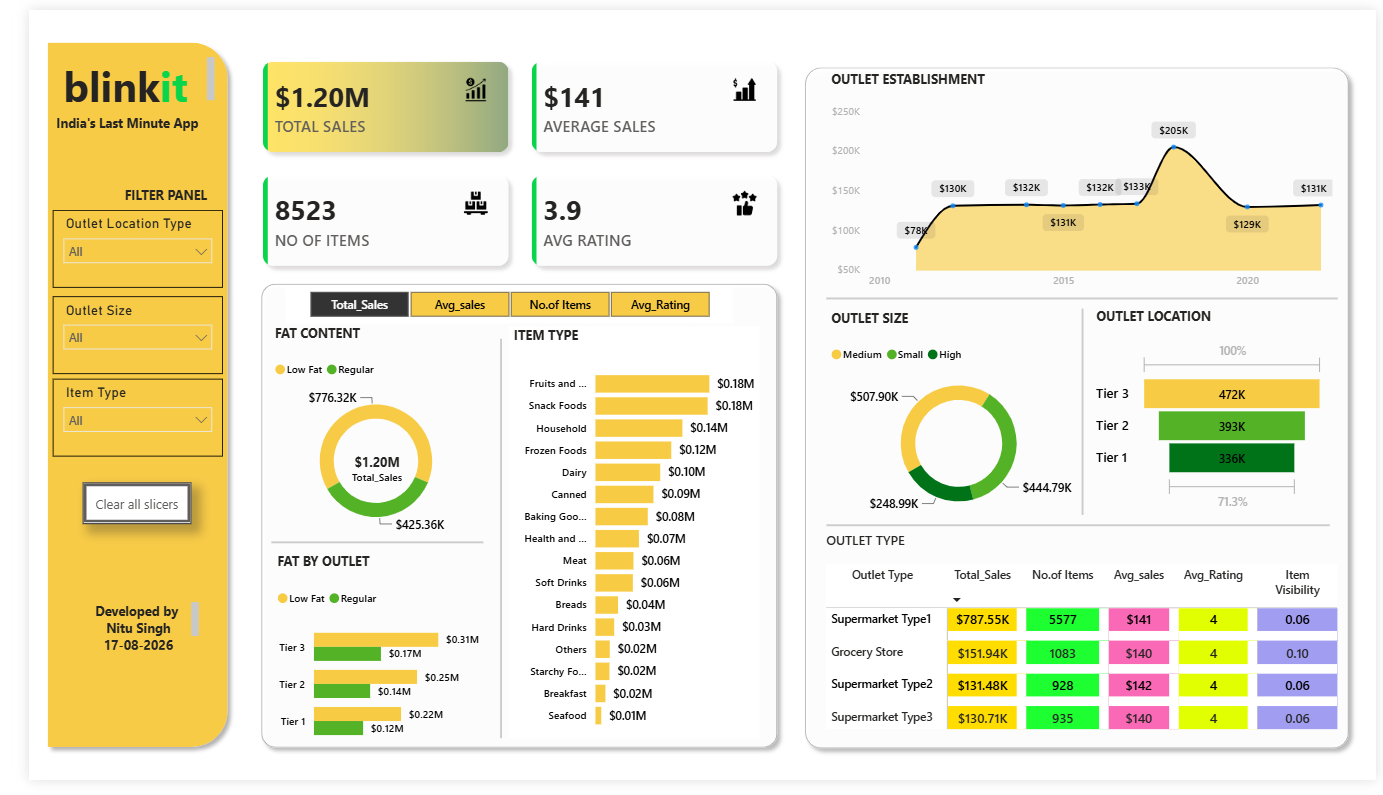

What the dashboard file says about the page in this screenshot:
{"tool":"powerbi","page":{"name":"Page 1","canvas":[1400,800],"ordinal":0},"visuals":[{"type":"shape","box":[10.9,25,205,750],"z":0},{"type":"textbox","box":[10,44.3,187.1,60],"z":1000},{"type":"textbox","box":[22.9,104.1,158.8,28.8],"z":2000},{"type":"cardVisual","fields":{"Data":["BlinkIT Grocery Data.Total_Sales","BlinkIT Grocery Data.Avg_sales","BlinkIT Grocery Data.No.of Items","BlinkIT Grocery Data.Avg_Rating"]},"box":[214.1,25,592.2,270.3],"z":3000},{"type":"shape","box":[232.8,275,554,500],"z":4000},{"type":"donutChart","title":"FAT CONTENT","fields":{"Y":["BlinkIT Grocery Data.Total_Sales"],"Category":["BlinkIT Grocery Data.Item Fat Content"]},"box":[250.6,326,220,230],"z":5000},{"type":"slicer","fields":{"Values":["Metrics.Metrics"]},"box":[266.2,285.7,465,40],"z":6000},{"type":"cardVisual","fields":{"Data":["BlinkIT Grocery Data.Total_Sales"]},"box":[302.9,441.4,118.6,70],"z":7000},{"type":"clusteredBarChart","title":"FAT BY OUTLET ","fields":{"Y":["BlinkIT Grocery Data.Total_Sales"],"Category":["BlinkIT Grocery Data.Outlet Location Type"],"Series":["BlinkIT Grocery Data.Item Fat Content"]},"box":[253.2,563.6,220,212],"z":8000},{"type":"shape","box":[251.8,541.8,220,23],"z":9000},{"type":"shape","box":[472,341,38,415],"z":10000},{"type":"barChart","title":"ITEM TYPE","fields":{"Y":["BlinkIT Grocery Data.Total_Sales"],"Category":["BlinkIT Grocery Data.Item Type"]},"box":[499,328,260,428],"z":11000},{"type":"shape","box":[797.1,50,582.9,725.7],"z":12000},{"type":"lineChart","title":"OUTLET ESTABLISHMENT","fields":{"Category":["BlinkIT Grocery Data.Outlet Establishment Year"],"Y":["BlinkIT Grocery Data.Total_Sales"]},"box":[828.6,62.9,530.9,235.5],"z":13000},{"type":"shape","box":[829.1,288.2,530.9,22.7],"z":14000},{"type":"donutChart","title":"OUTLET SIZE","fields":{"Category":["BlinkIT Grocery Data.Outlet Size"],"Y":["BlinkIT Grocery Data.Total_Sales"]},"box":[829.1,310.9,275,225],"z":15000},{"type":"shape","box":[1075.7,310,38.6,214.3],"z":16000},{"type":"funnel","title":"OUTLET LOCATION","fields":{"Y":["Sum(BlinkIT Grocery Data.Sales)"],"Category":["BlinkIT Grocery Data.Outlet Location Type"]},"box":[1104.3,308.6,247.1,217.1],"z":17000},{"type":"shape","box":[828.6,518.6,522.9,34.3],"z":18000},{"type":"pivotTable","title":"OUTLET TYPE","fields":{"Values":["BlinkIT Grocery Data.Total_Sales","BlinkIT Grocery Data.No.of Items","BlinkIT Grocery Data.Avg_sales","BlinkIT Grocery Data.Avg_Rating","Avg(BlinkIT Grocery Data.Item Visibility)"],"Rows":["BlinkIT Grocery Data.Outlet Type"]},"box":[822.9,541.4,557.1,215.7],"z":19000},{"type":"slicer","fields":{"Values":["BlinkIT Grocery Data.Outlet Location Type"]},"box":[24.7,207.8,176.6,80.5],"z":20000},{"type":"slicer","fields":{"Values":["BlinkIT Grocery Data.Outlet Size"]},"box":[24.7,297.4,176.6,80.5],"z":20001},{"type":"slicer","fields":{"Values":["BlinkIT Grocery Data.Item Type"]},"box":[24.7,383.1,176.6,80.5],"z":20002},{"type":"textbox","box":[68.8,177.9,146.8,29.9],"z":20003},{"type":"actionButton","box":[55.8,490.9,113,42.9],"z":20004},{"type":"textbox","box":[53.2,610.4,128.6,59.7],"z":20005}]}

Visuals, with their boxes in screenshot pixels (x1, y1, x2, y2), scaled from the page's 1400x800 canvas onto the 1383x795 screenshot:
shape: 11 25 213 770
textbox: 10 44 195 104
textbox: 23 103 179 132
cardVisual - BlinkIT Grocery Data.Total_Sales x BlinkIT Grocery Data.Avg_sales: 212 25 797 293
shape: 230 273 777 770
"FAT CONTENT" donutChart: 248 324 465 553
slicer - Metrics.Metrics: 263 284 722 324
cardVisual - BlinkIT Grocery Data.Total_Sales: 299 439 416 508
"FAT BY OUTLET " clusteredBarChart: 250 560 467 771
shape: 249 538 466 561
shape: 466 339 504 751
"ITEM TYPE" barChart: 493 326 750 751
shape: 787 50 1363 771
"OUTLET ESTABLISHMENT" lineChart: 819 63 1343 297
shape: 819 286 1343 309
"OUTLET SIZE" donutChart: 819 309 1091 533
shape: 1063 308 1101 521
"OUTLET LOCATION" funnel: 1091 307 1335 522
shape: 819 515 1335 549
"OUTLET TYPE" pivotTable: 813 538 1363 752
slicer - BlinkIT Grocery Data.Outlet Location Type: 24 207 199 286
slicer - BlinkIT Grocery Data.Outlet Size: 24 296 199 376
slicer - BlinkIT Grocery Data.Item Type: 24 381 199 461
textbox: 68 177 213 207
actionButton: 55 488 167 530
textbox: 53 607 180 666
